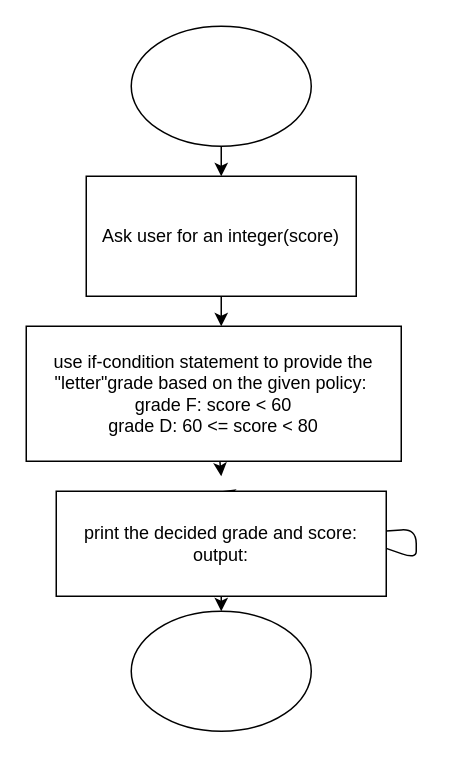
This 455x758 diagram has some shape labels left out. Each missing label, with the centre of its shape:
"End" goes at point 220,670.
"Start" goes at point 220,85.
